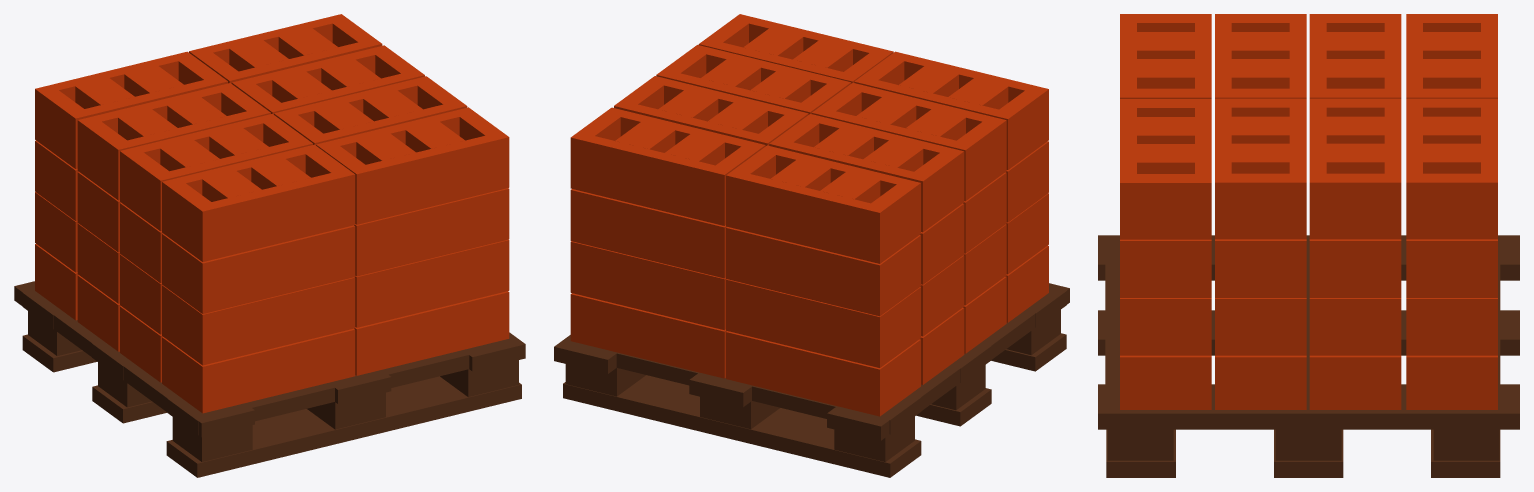
3 renders of one model, left to right at view 1: azimuth 30°, elevation 25°; view 2: azimuth 150°, elevation 25°; view 3: azimuth 270°, elevation 25°, orthographic. The views are drawn at different scales.
Visible parts, largest first — view 1: Куб.039_Куб.106; view 2: Куб.039_Куб.106; view 3: Куб.039_Куб.106.
Part boxes in pixels (box(x1,y1,x2,y2)): Куб.039_Куб.106: box(14, 14, 525, 477); Куб.039_Куб.106: box(554, 14, 1069, 477); Куб.039_Куб.106: box(1098, 14, 1519, 477).
Bounding box in the file's own units: 5.41 × 4.13 × 5.41.
